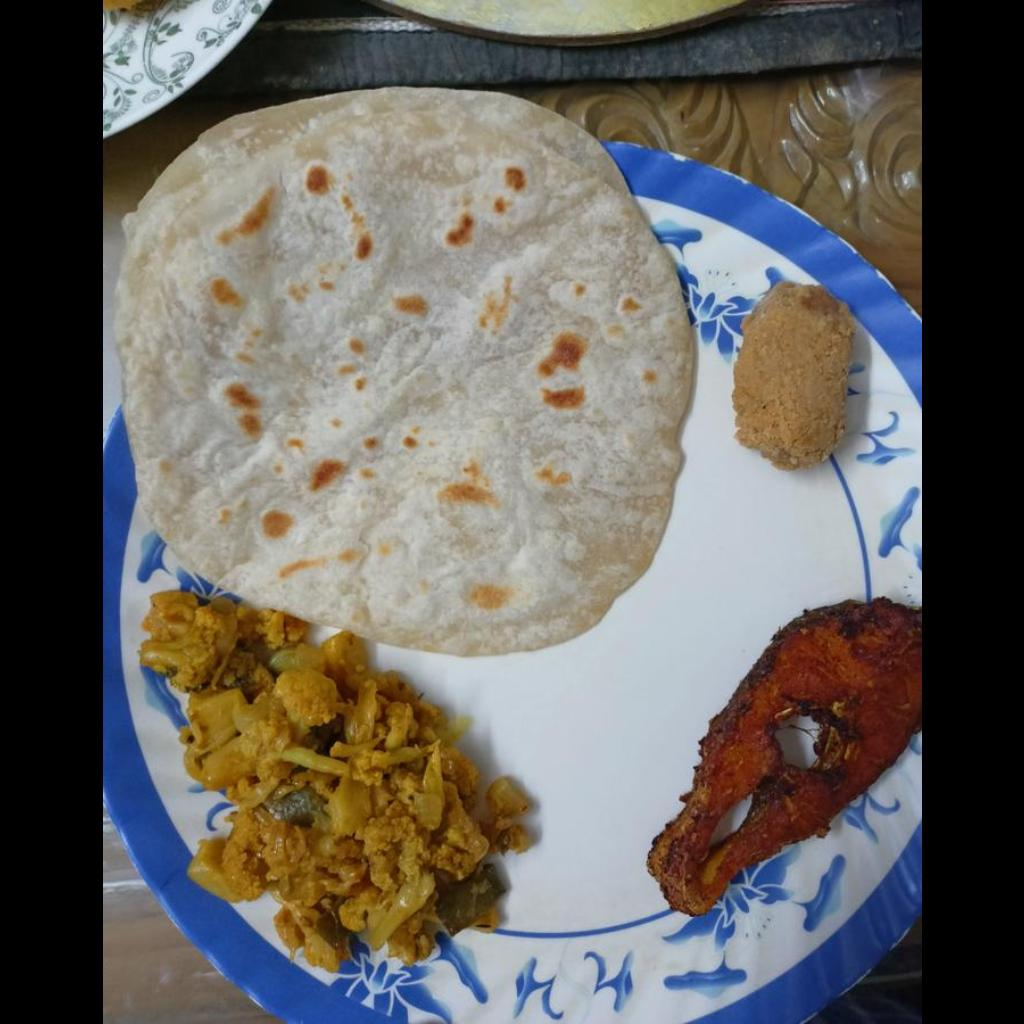cauliflower: (139, 590, 526, 978)
fish: (639, 603, 920, 917)
kabab: (730, 277, 856, 463)
ruti: (107, 82, 689, 651)
